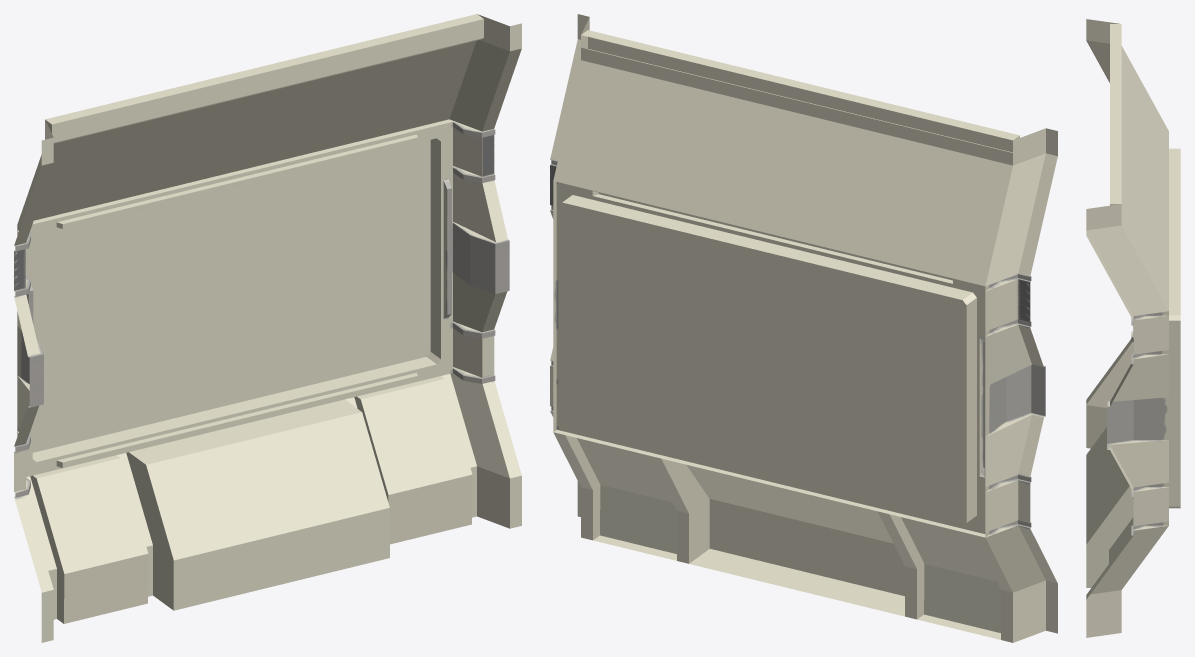
The model's file is Wall_empty.fbx.
The picture shows the model from 3 angles, left to right: view 1: azimuth 30°, elevation 25°; view 2: azimuth 150°, elevation 25°; view 3: azimuth 270°, elevation 25°; orthographic projection. The views are drawn at different scales.
Visible parts, largest first — view 1: node_id4; view 2: node_id4; view 3: node_id4.
Part boxes in pixels (x1=…): node_id4: x1=14, y1=14, x2=521, y2=642; node_id4: x1=550, y1=14, x2=1057, y2=642; node_id4: x1=1086, y1=19, x2=1180, y2=637.
Bounding box in the file's own units: 0.512 × 0.512 × 0.1024.
Materials: 1 (1 with a texture image).
